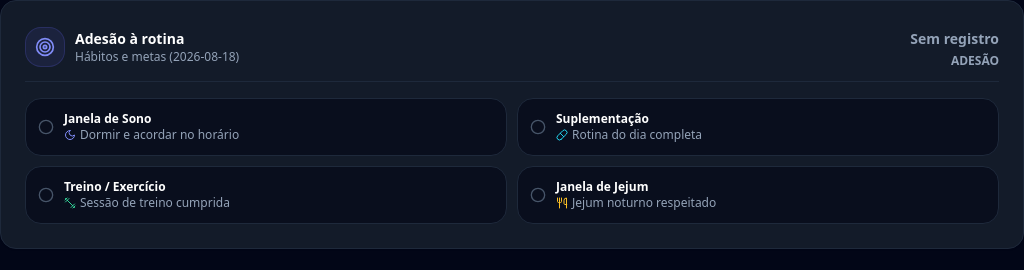
Test: DailyComplianceWidget › toggles a pillar switch, updates score and sends POST /api/compliance
Expected: the text "Sem registro" is shown, [910, 25, 999, 53]
Click the switch labelled "Janela de Sono Dormir e acordar no horário" at (108, 118), box [25, 98, 507, 156]
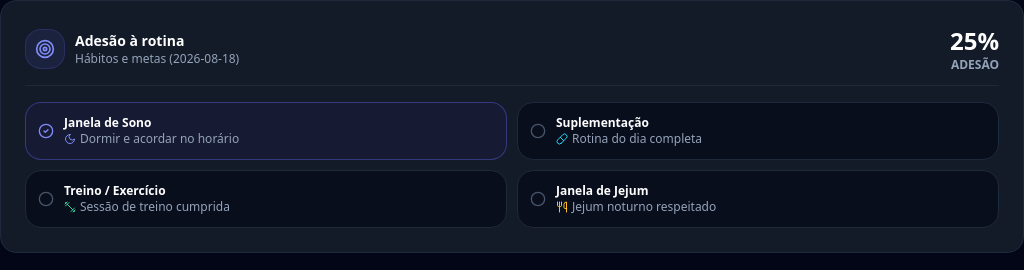
Now the text with test id "compliance-score" reads "25%", box [950, 24, 999, 57]
